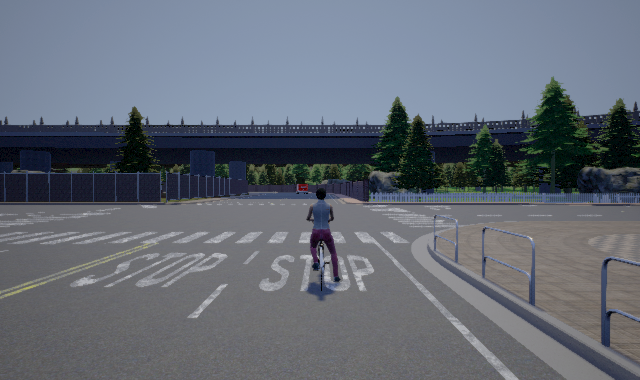bike: (306, 187, 342, 291)
